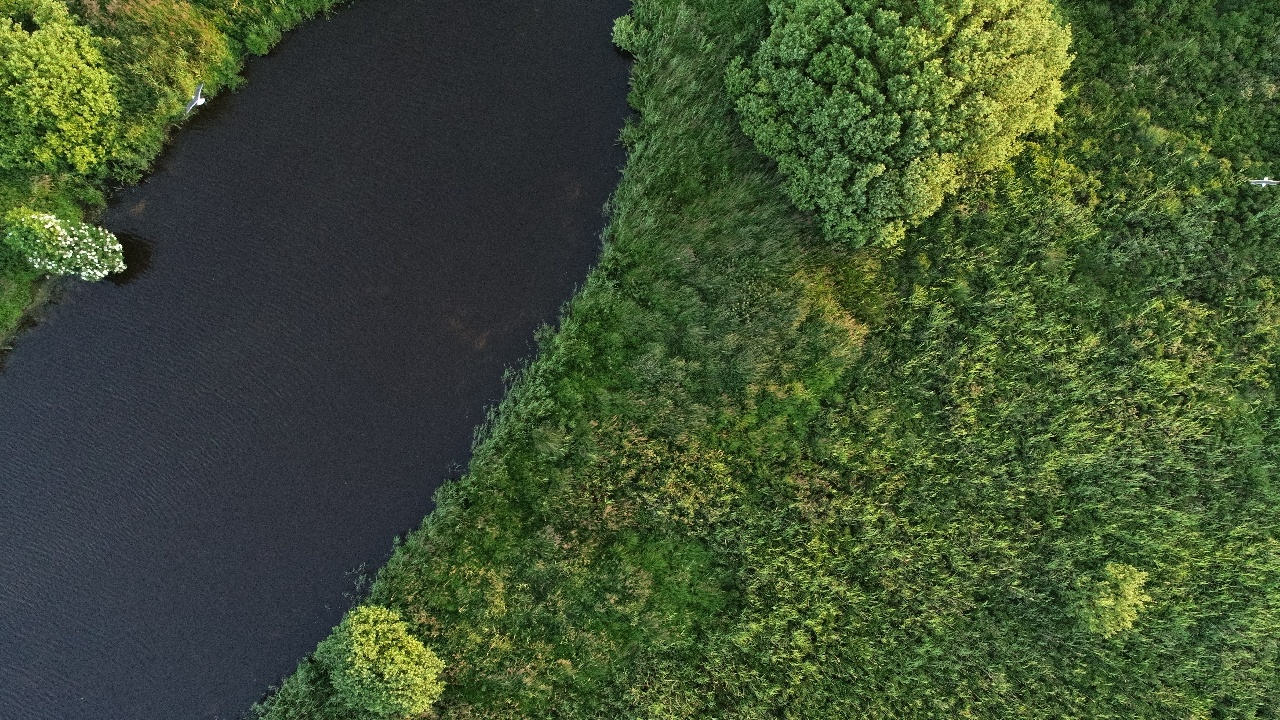Bird: (169, 74, 219, 121), (1236, 151, 1280, 204)
